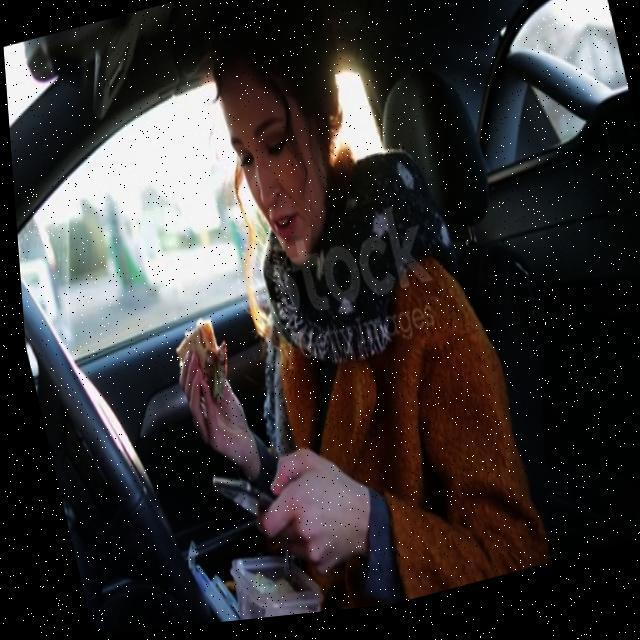PhoneCall: (202, 464, 286, 546)
